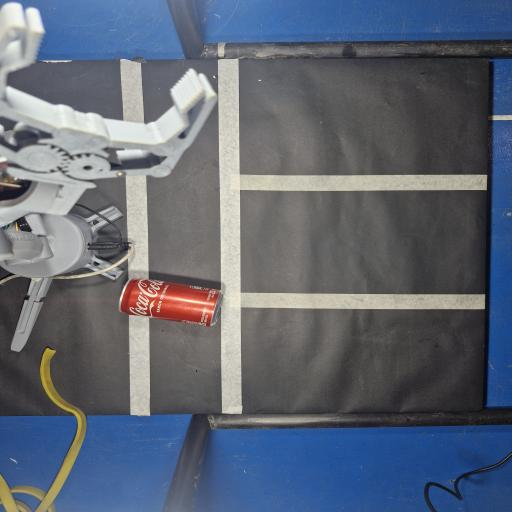lata: (120, 279, 222, 326)
